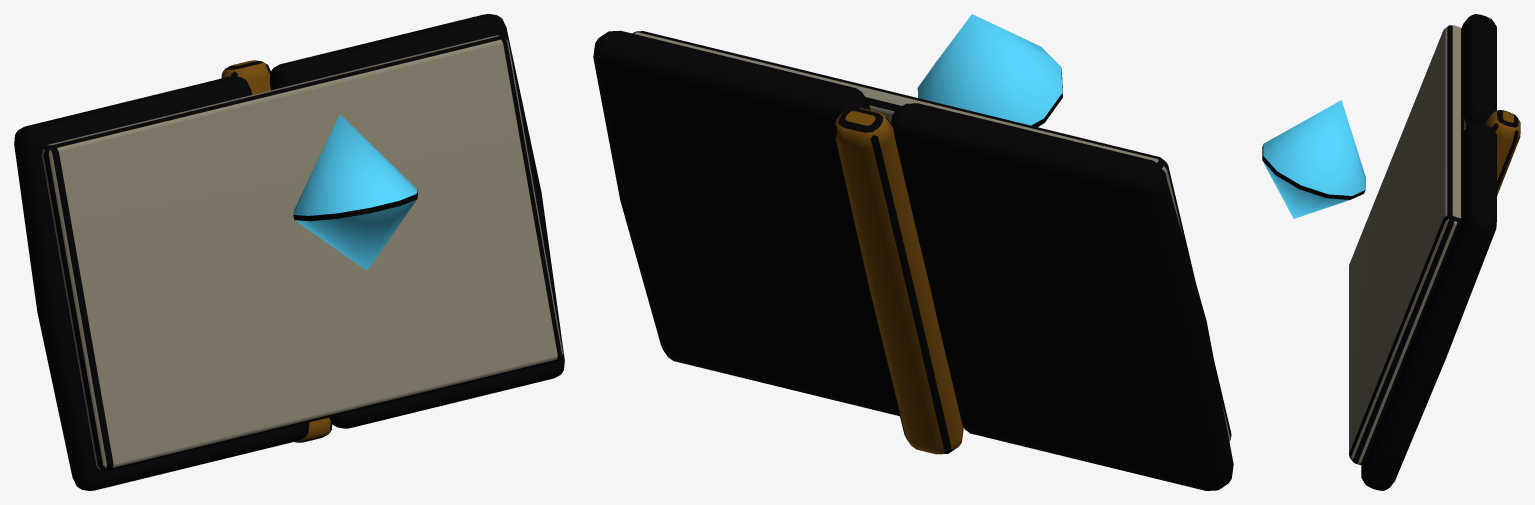
The model's file is Arma_GrimorioMilEcos.fbx.
The picture shows the model from 3 angles, left to right: view 1: azimuth 30°, elevation 25°; view 2: azimuth 150°, elevation 25°; view 3: azimuth 270°, elevation 25°; orthographic projection. The views are drawn at different scales.
Visible parts, largest first — view 1: Piece; view 2: Piece; view 3: Piece.
Part boxes in pixels (bbox=[...]): Piece: bbox=[14, 14, 564, 490]; Piece: bbox=[593, 14, 1233, 490]; Piece: bbox=[1262, 14, 1520, 490].
Size of the model in its own units: 0.43 by 0.2881 by 0.2218.
